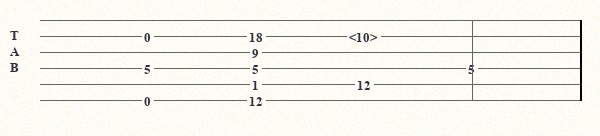0: (144, 94, 155, 107), (144, 30, 155, 43)
1: (252, 78, 263, 91)
12: (249, 94, 267, 107), (357, 78, 375, 91)
18: (249, 30, 267, 43)
5: (144, 62, 155, 75), (252, 62, 263, 75), (468, 62, 479, 75)
9: (252, 46, 263, 59)
harmonic: (349, 30, 382, 43)
